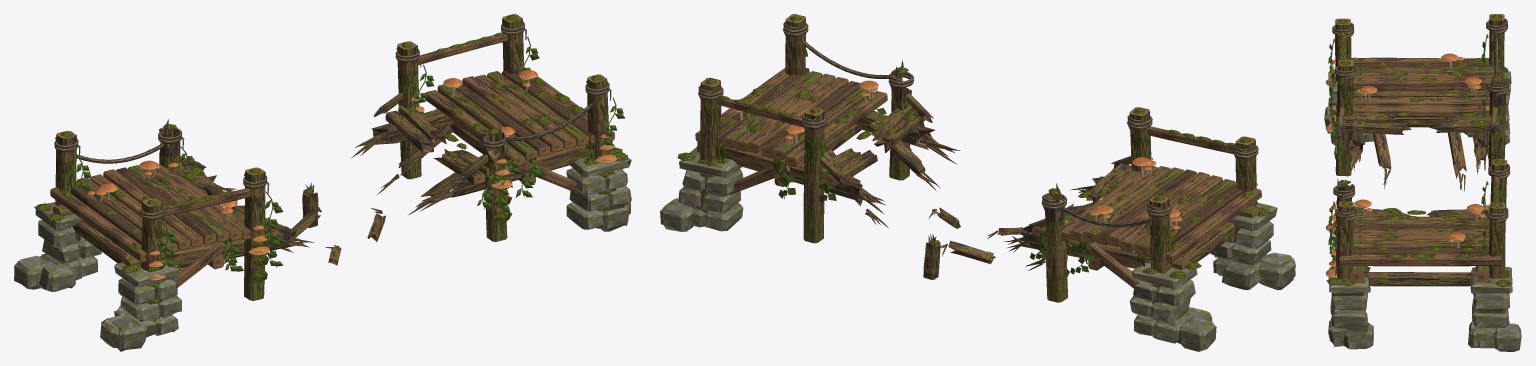
Rendered from SM_BrokenBridge.glb.
3 renders of one model, left to right at view 1: azimuth 30°, elevation 25°; view 2: azimuth 150°, elevation 25°; view 3: azimuth 270°, elevation 25°, orthographic. The views are drawn at different scales.
Parts seen in each view (by area): view 1: SM_BrokenBridge; view 2: SM_BrokenBridge; view 3: SM_BrokenBridge.
Boxes of the visible parts, x1=… form: SM_BrokenBridge: x1=14, y1=14, x2=631, y2=351; SM_BrokenBridge: x1=660, y1=14, x2=1295, y2=351; SM_BrokenBridge: x1=1324, y1=14, x2=1521, y2=351.
Size of the model in its own units: 11.89 by 3.24 by 4.23.
Materials: 1 (1 with a texture image).
